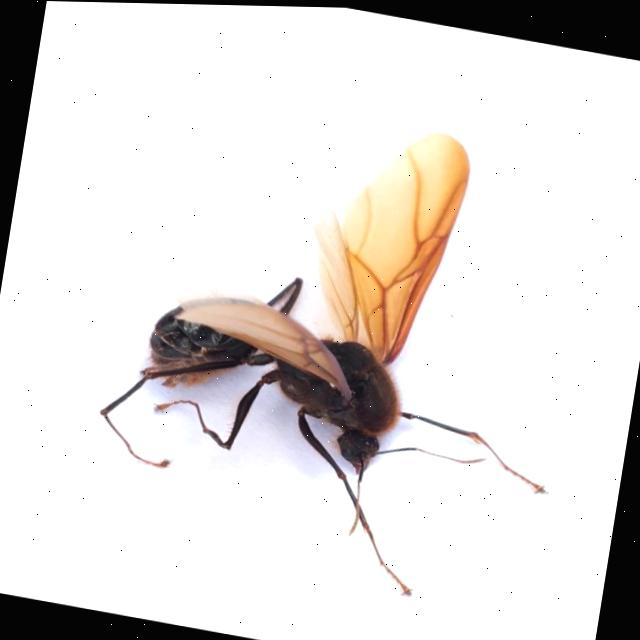Dead-Male-Alate: (79, 78, 604, 618)
